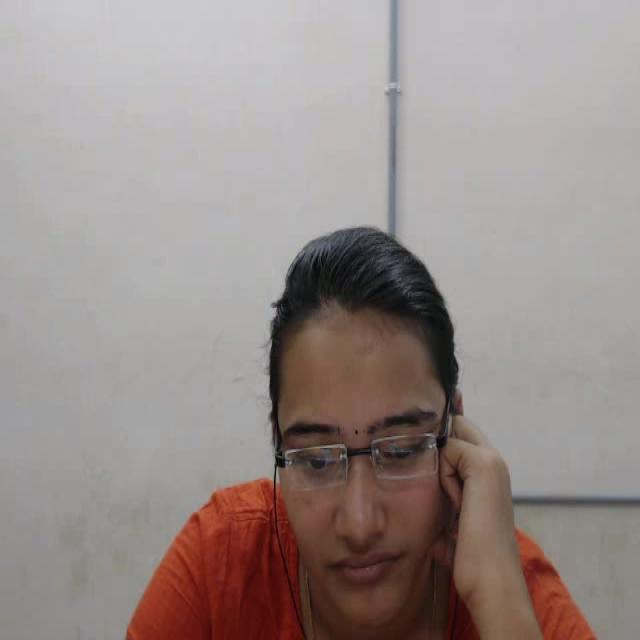Bored: (216, 190, 581, 640)
